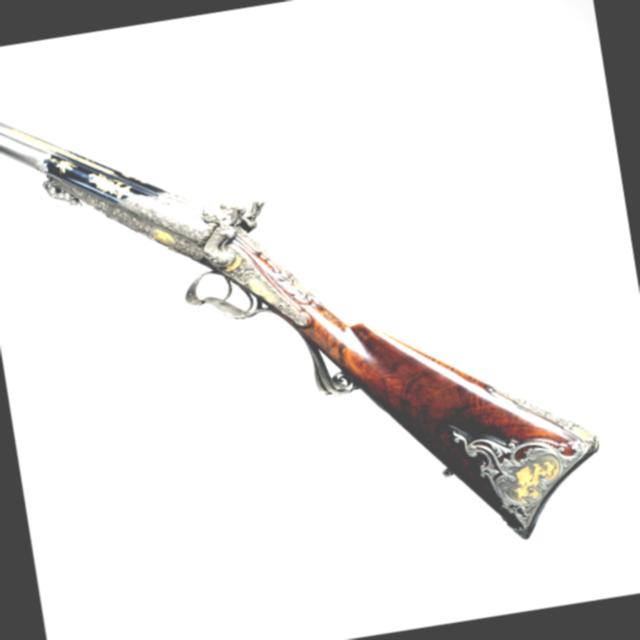shotgun: (0, 0, 636, 637)
